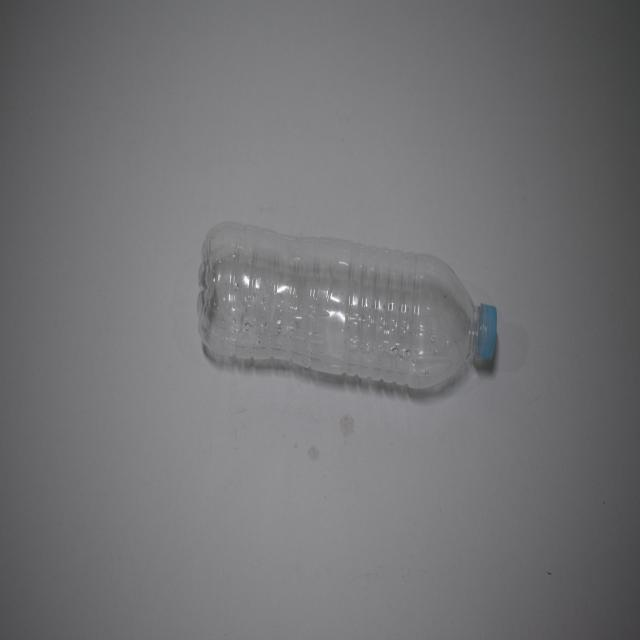bottle: (181, 200, 512, 434)
